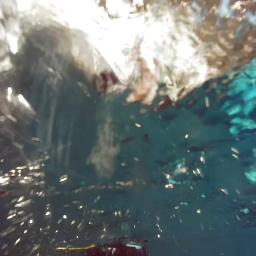Side: (86, 242, 152, 256), (86, 243, 150, 256)
